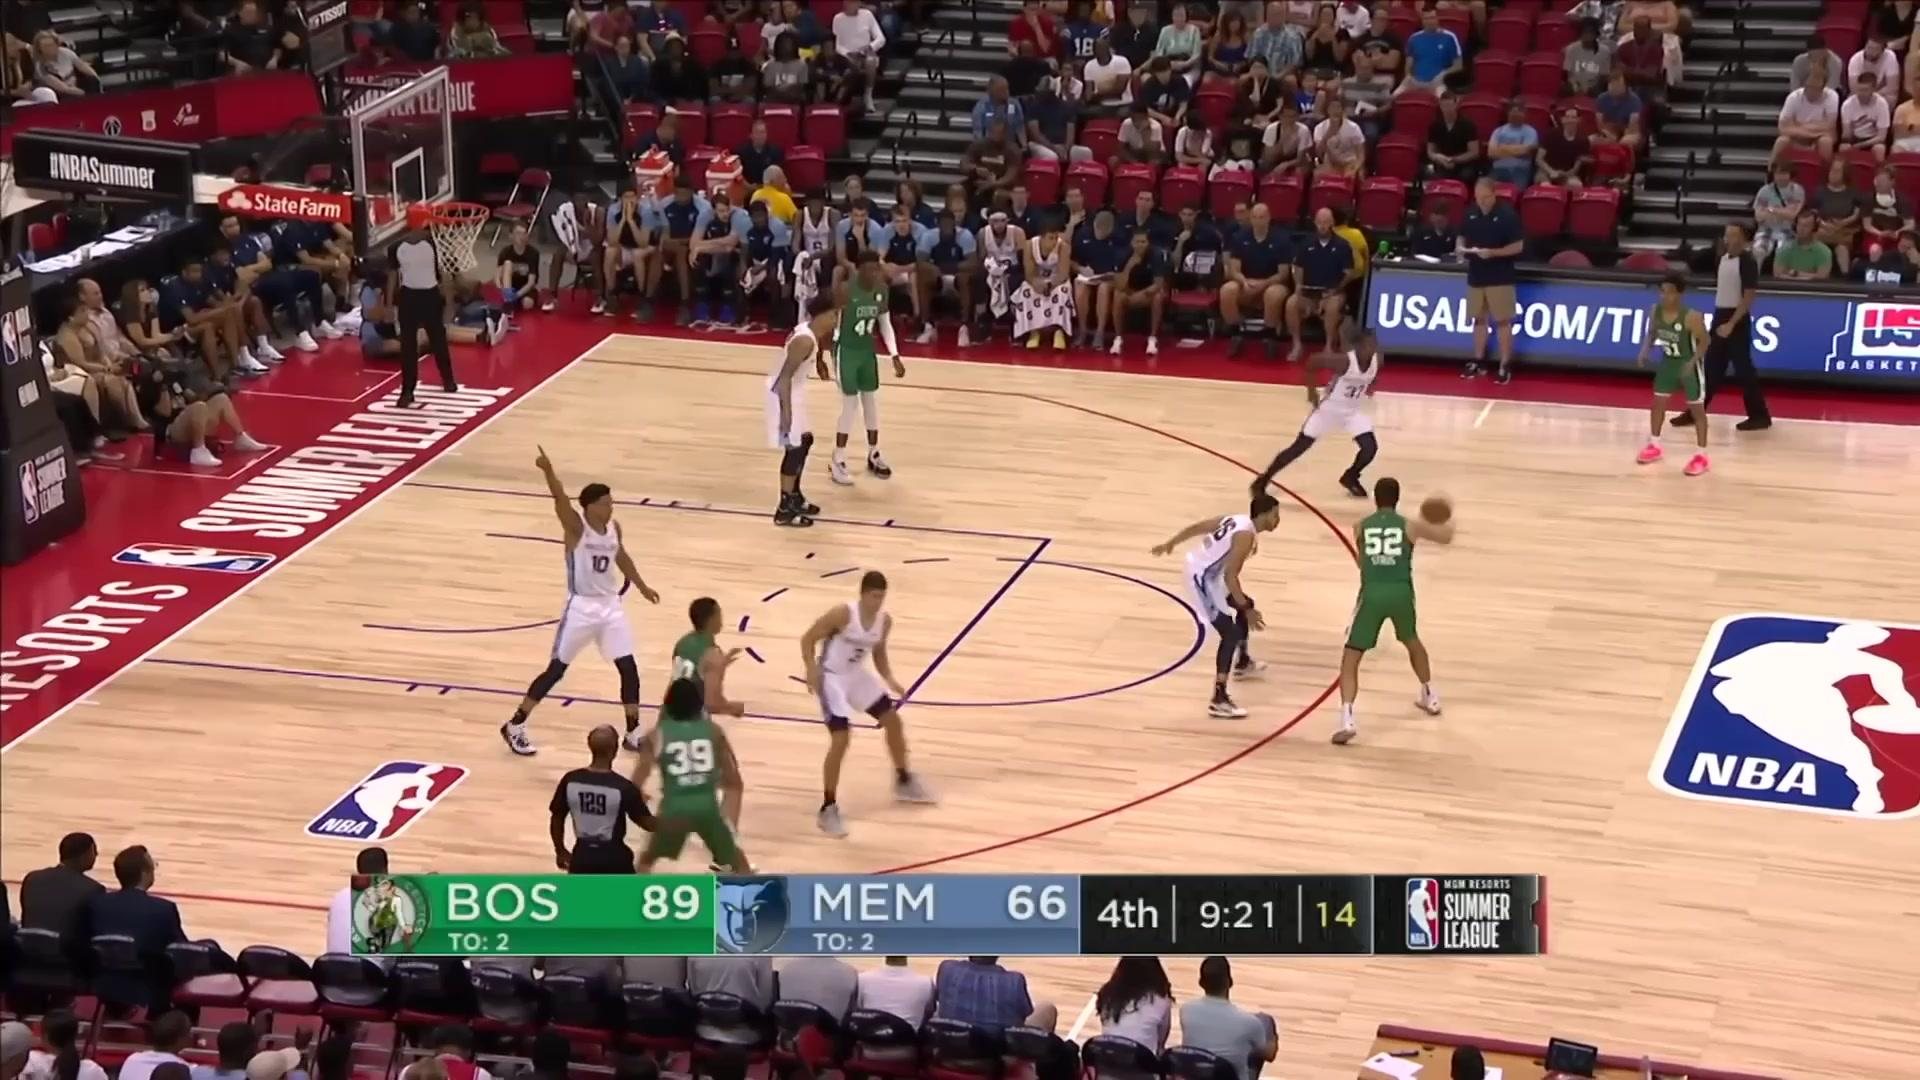no_foul: (1135, 463, 1487, 752)
